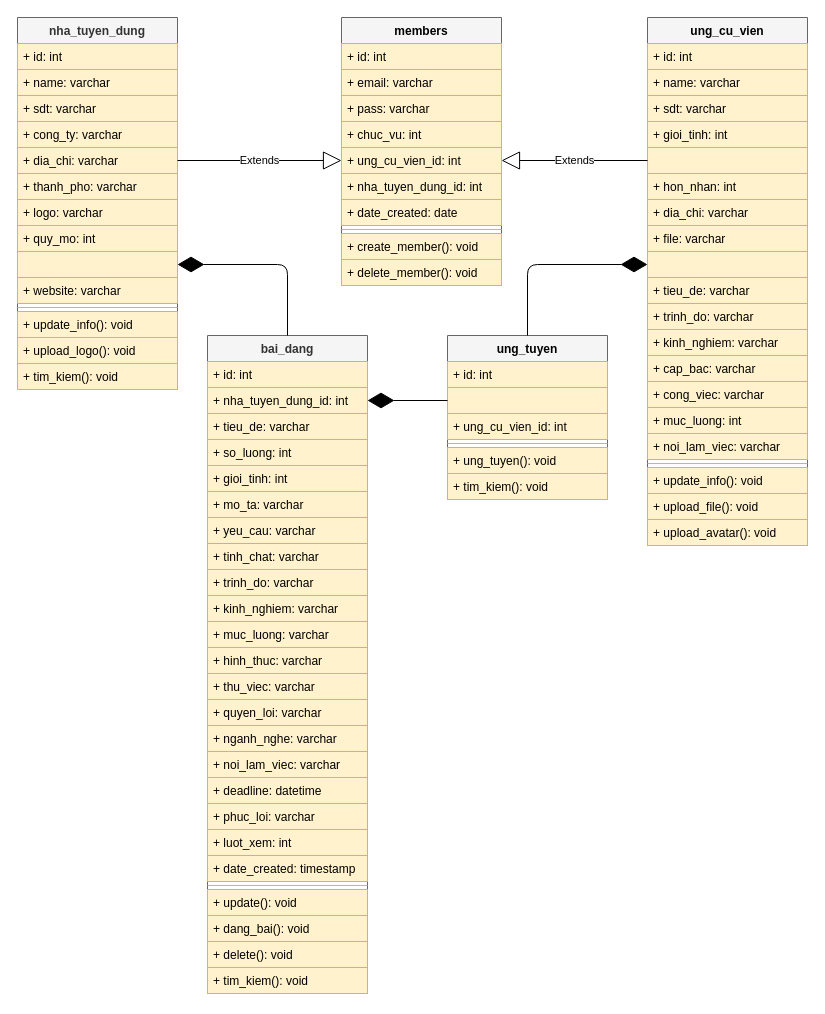
This 825x1014 diagram has some shape labels left out. Here are the shapes that lost their labels. From the top down, the centre of each, then its label:
At point (727, 160): "+ ngay_sinh: date".
At point (97, 264): "+ gioi_thieu: varchar".
At point (727, 264): "+ avatar: varchar".
At point (527, 400): "+ bai_dang_id: int".
